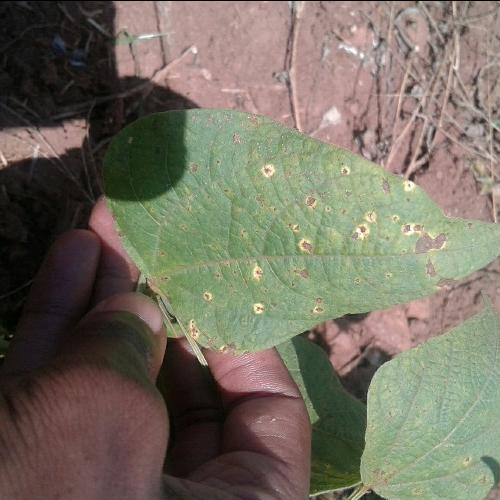hawar: (231, 144, 459, 292), (184, 247, 274, 331)
